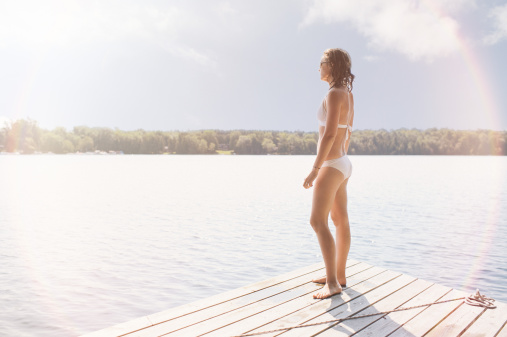em pe: (296, 40, 365, 301)
